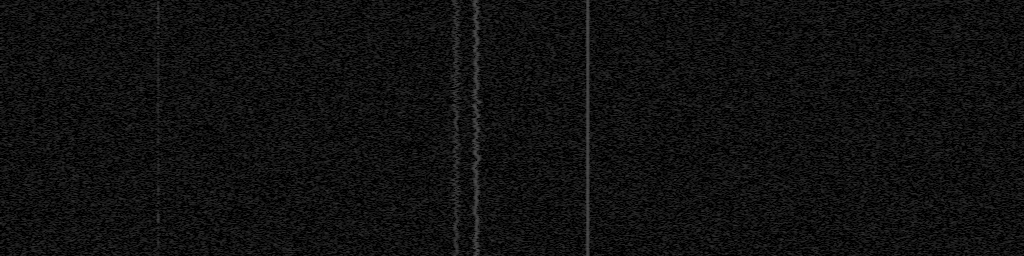wv_cw: (585, 0, 590, 256)
wv_lsb: (156, 1, 161, 99), (156, 100, 161, 152), (156, 226, 161, 256), (156, 154, 161, 180), (156, 181, 161, 205), (156, 207, 161, 225)
wv_usb: (71, 192, 76, 238), (71, 162, 76, 191), (72, 239, 75, 246), (71, 24, 75, 28), (72, 136, 75, 141), (72, 247, 75, 252), (72, 96, 75, 99), (72, 1, 75, 4)
wv_wbfm: (469, 0, 484, 256), (449, 0, 464, 256)
